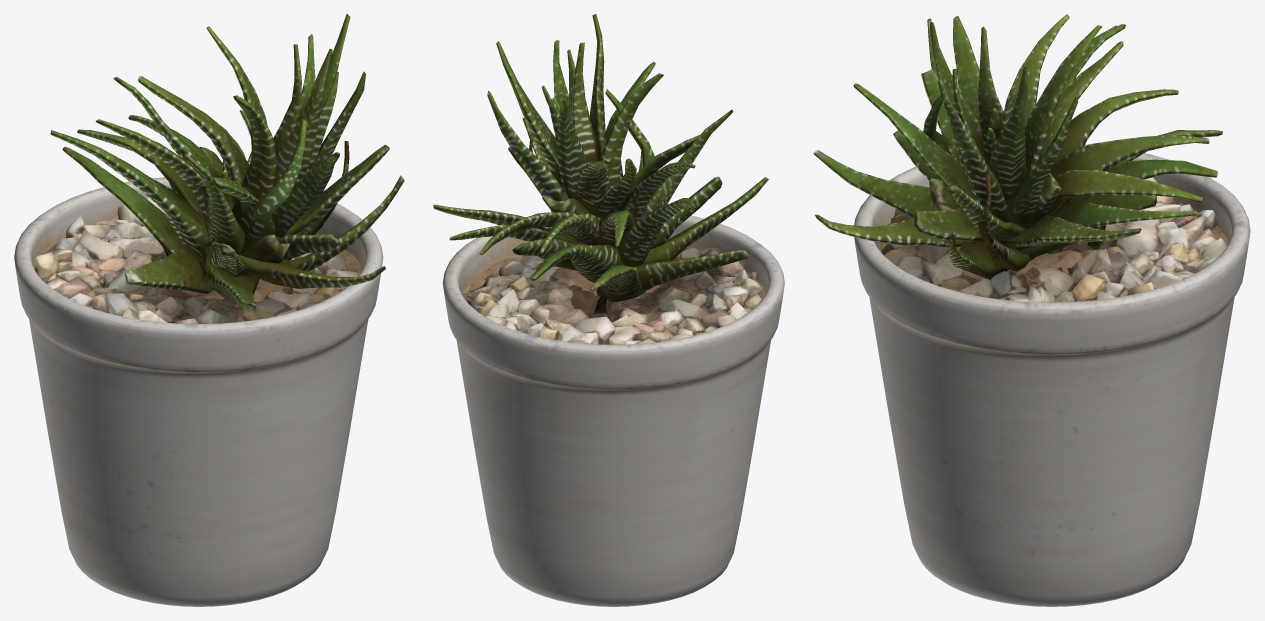
Rendered from potted_plant_04.glb.
The picture shows the model from 3 angles, left to right: view 1: azimuth 30°, elevation 25°; view 2: azimuth 150°, elevation 25°; view 3: azimuth 270°, elevation 25°; orthographic projection. The views are drawn at different scales.
Visible parts, largest first — view 1: potted_plant_04_ground; view 2: potted_plant_04_ground; view 3: potted_plant_04_ground.
Part boxes in pixels (x1,y1,x2,y2): potted_plant_04_ground: (14, 14, 404, 606); potted_plant_04_ground: (433, 14, 784, 606); potted_plant_04_ground: (813, 14, 1250, 606).
Size of the model in its own units: 0.1679 by 0.2675 by 0.1847.
1 material, 1 textured.
